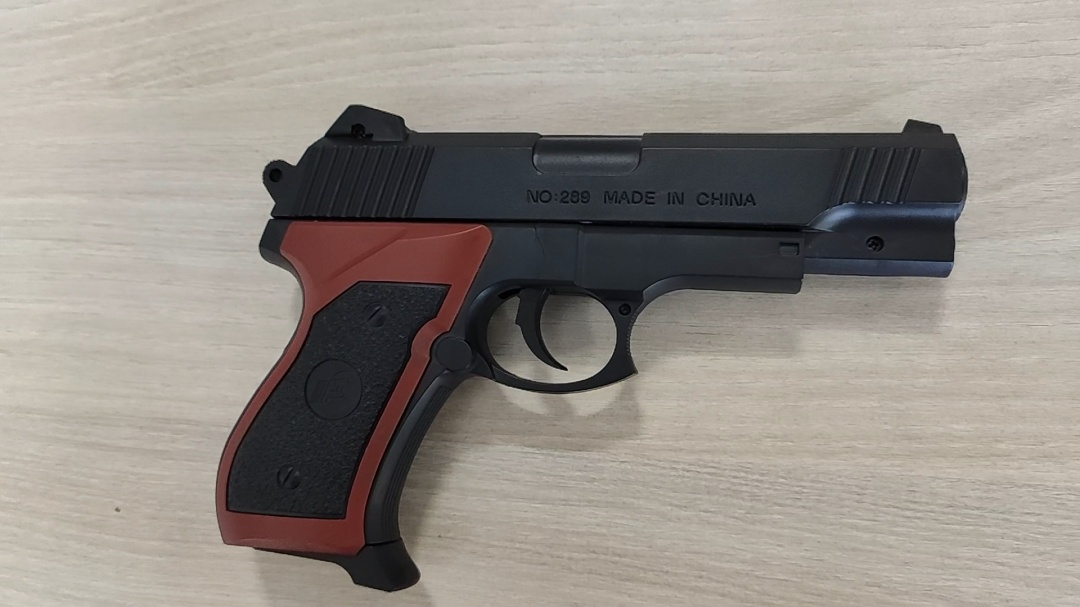gun: (427, 209, 555, 276)
